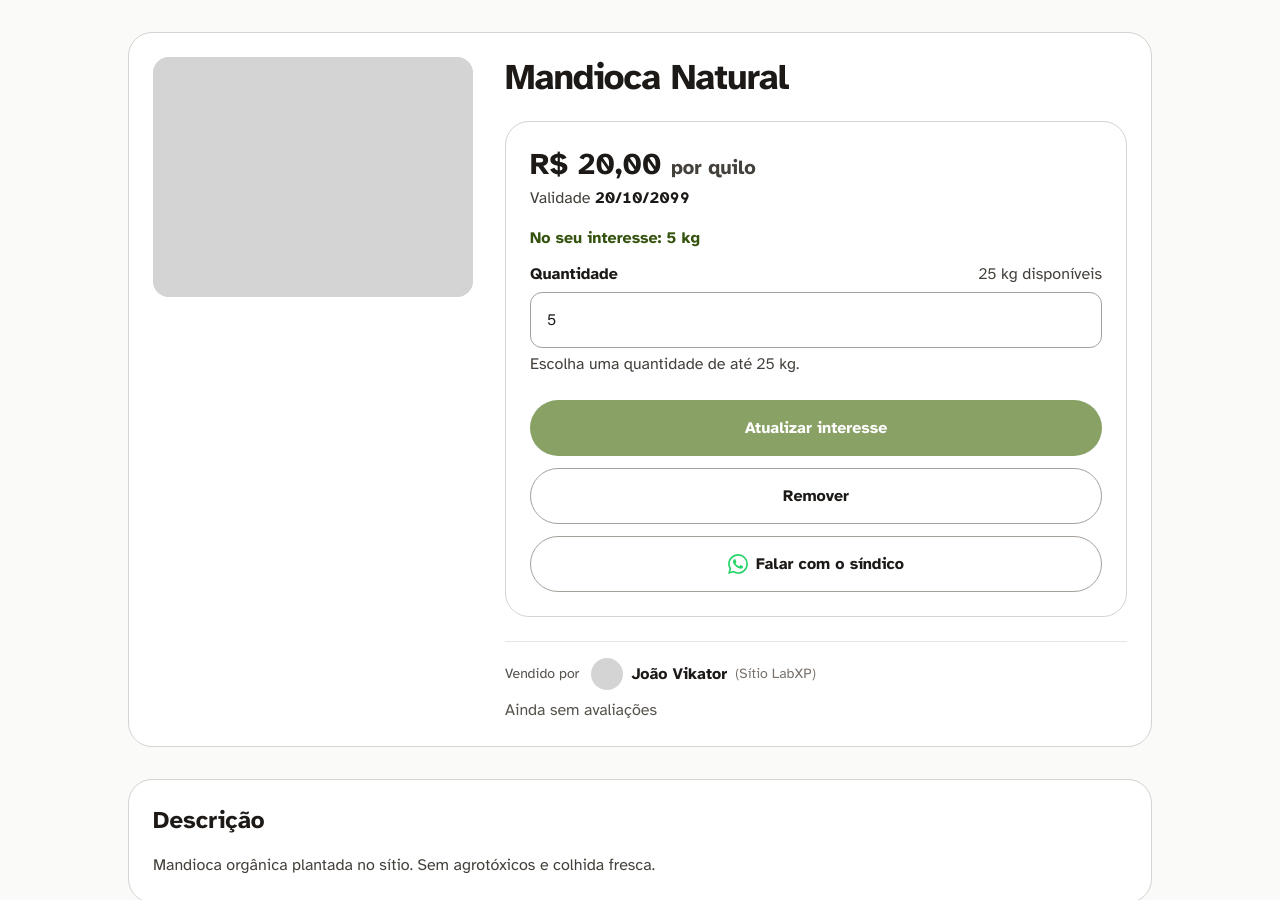
Test: ProductDetail, interest removal › removes the interest and offers to register again
The width and height of the screenshot is (1280, 900).
Click the button "Remover" at [816, 496], box left=530, top=468, right=1102, bottom=524
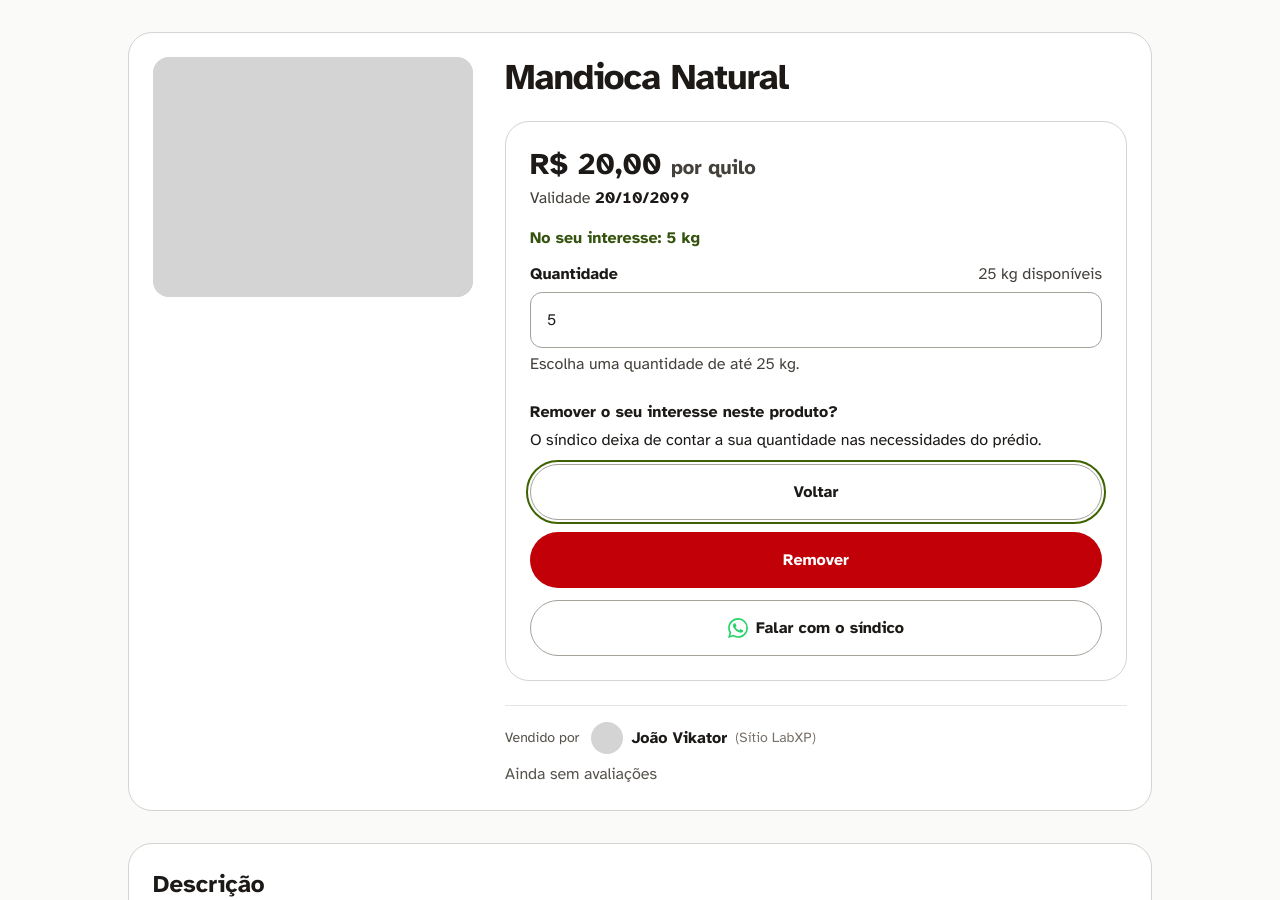
Click the button "Remover" at [816, 560], box left=530, top=532, right=1102, bottom=588
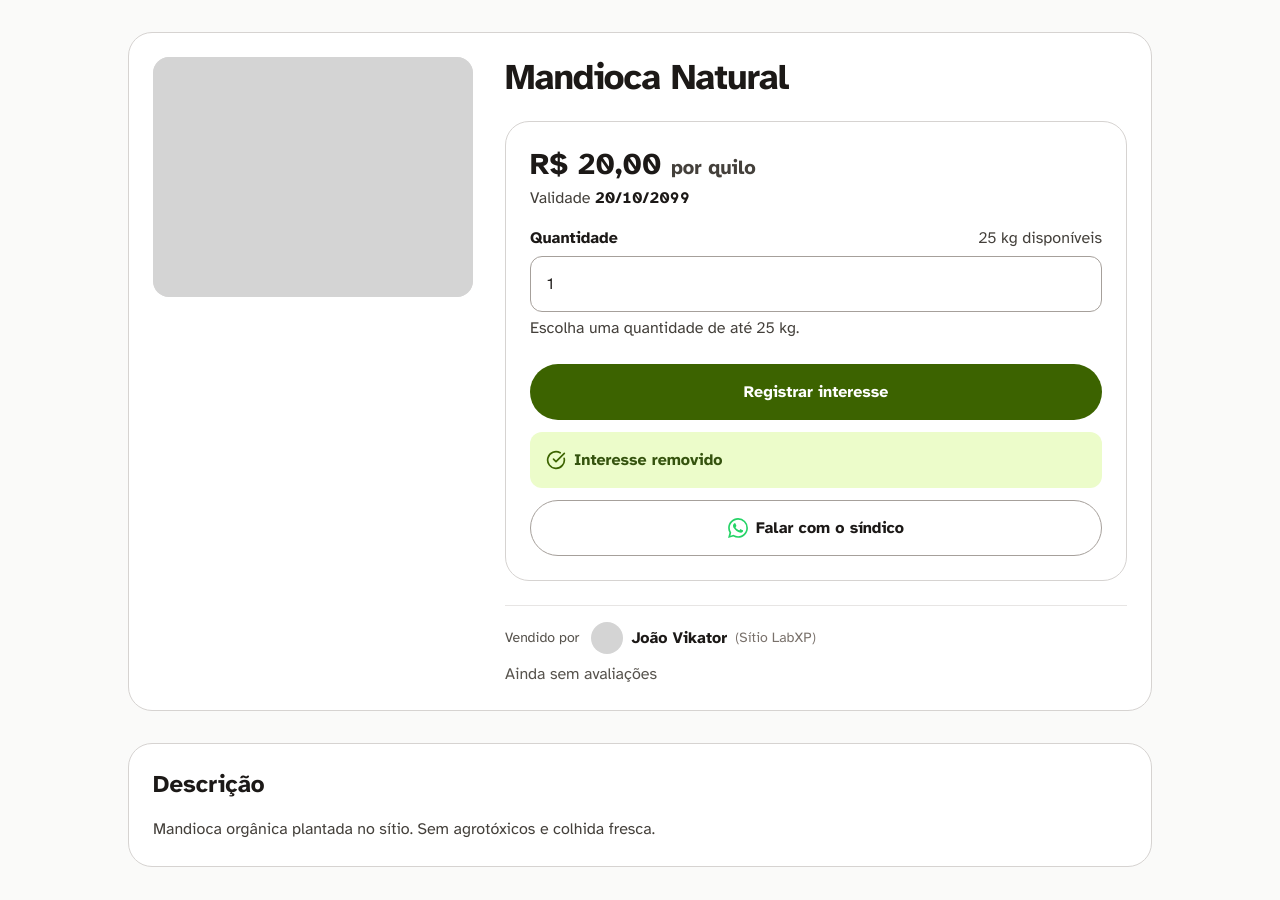
Check: the button "Registrar interesse" is enabled, box left=530, top=364, right=1102, bottom=420
Check: the text "Interesse removido" is shown, box left=530, top=432, right=1102, bottom=488
Check: the field labelled "Quantidade" holds "1", box left=530, top=256, right=1102, bottom=312
